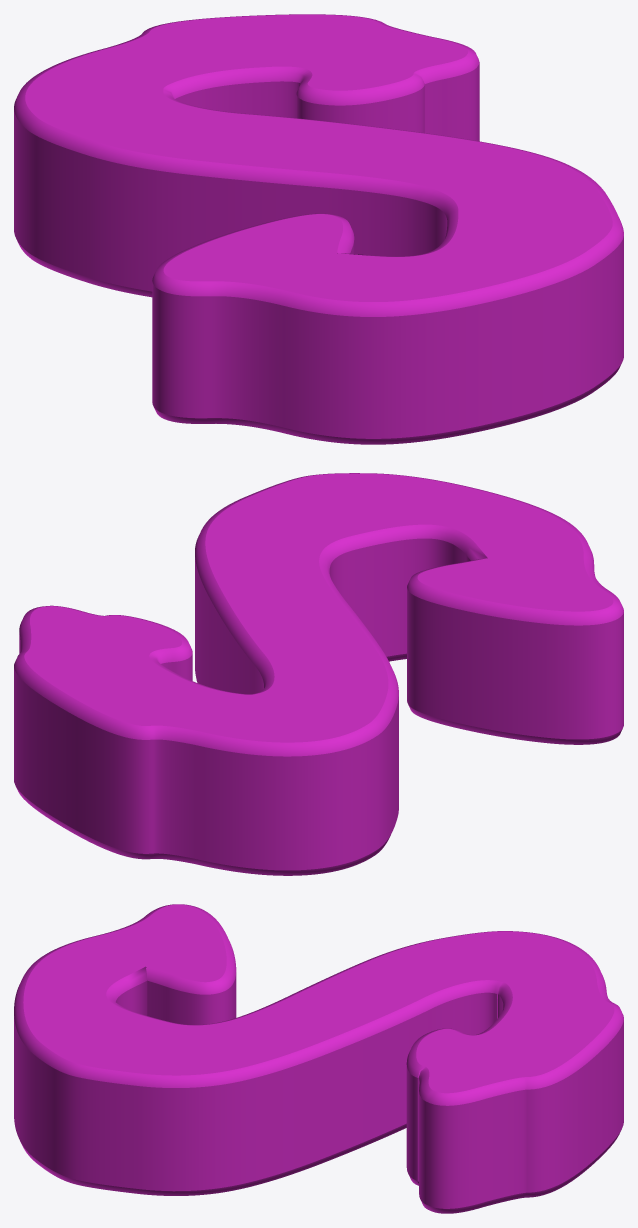
File: Bubble_LetterS.fbx
3 renders of one model, top to bottom at view 1: azimuth 30°, elevation 25°; view 2: azimuth 150°, elevation 25°; view 3: azimuth 270°, elevation 25°, orthographic. The views are drawn at different scales.
Parts seen in each view (by area): view 1: BubbleLetter_S; view 2: BubbleLetter_S; view 3: BubbleLetter_S.
Part boxes in pixels (box(x1,y1,x2,y2)): BubbleLetter_S: box(14, 14, 623, 444); BubbleLetter_S: box(14, 473, 623, 875); BubbleLetter_S: box(14, 904, 623, 1213).
Size of the model in its own units: 0.4913 by 0.14 by 0.6438.
